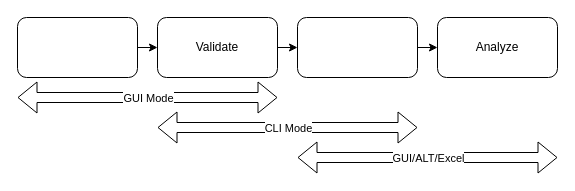
This 575x191 diagram has some shape labels left out. The shapes that lost their labels are listed below. From the top down, each one's centre as x and y in pixels, then its label:
At (x=77, y=47): "Script and Debug".
At (x=357, y=47): "Run".
